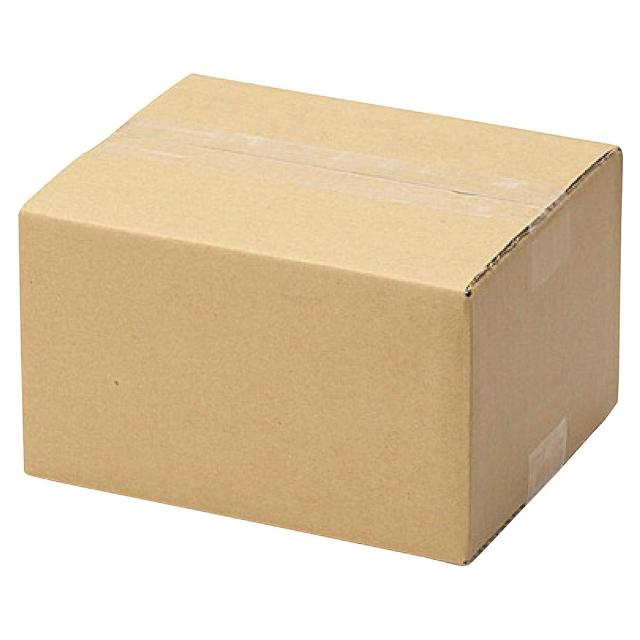box: (15, 72, 622, 563)
